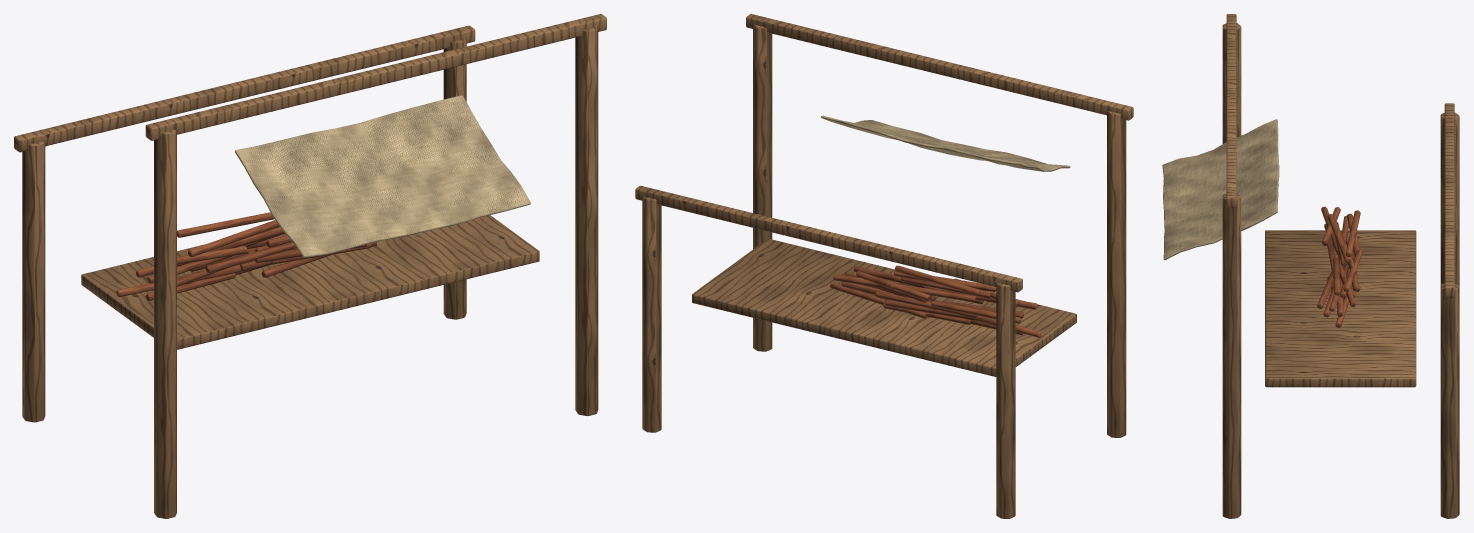
Rendered from leanto_wood.glb.
3 views of the same model, side by side, from view 1: azimuth 30°, elevation 25°; view 2: azimuth 150°, elevation 25°; view 3: azimuth 270°, elevation 25° (orthographic). The views are drawn at different scales.
Parts seen in each view (by area): view 1: leanto_wood; view 2: leanto_wood; view 3: leanto_wood.
Part boxes in pixels (x1=…): leanto_wood: x1=14, y1=14, x2=606, y2=518; leanto_wood: x1=635, y1=14, x2=1133, y2=518; leanto_wood: x1=1162, y1=14, x2=1459, y2=518.
Bounding box in the file's own units: 2.6 × 2.14 × 1.77.
Materials: 3 (3 with a texture image).
